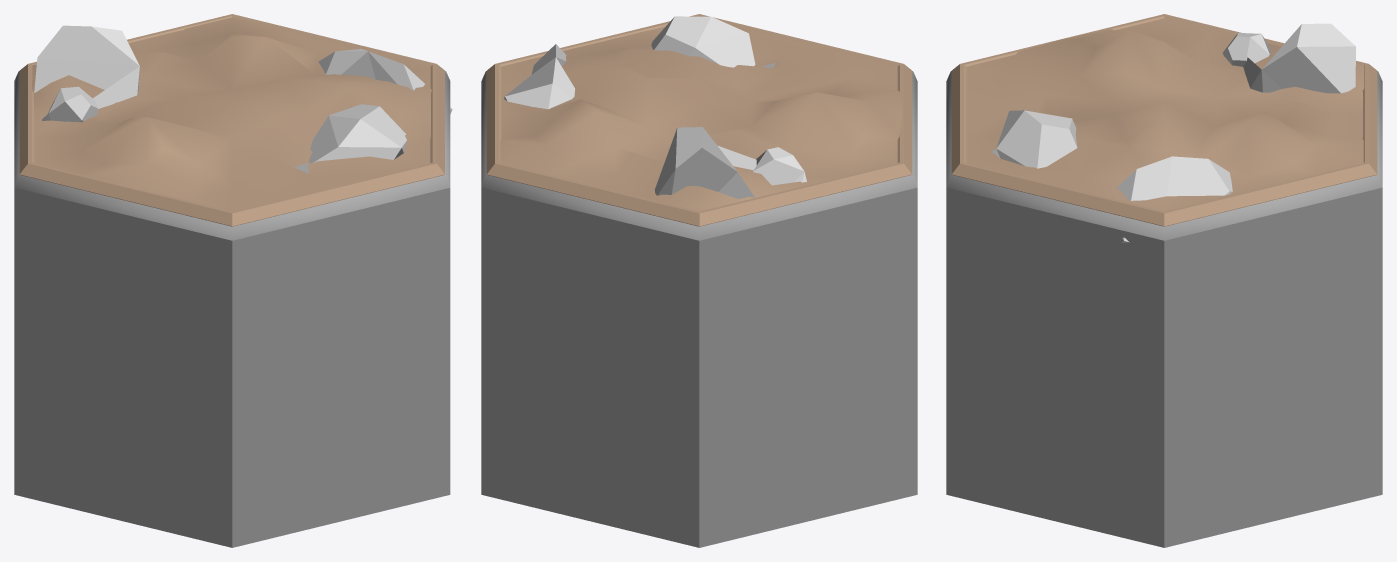
Rendered from presentation_tile4.fbx.
The picture shows the model from 3 angles, left to right: view 1: azimuth 30°, elevation 25°; view 2: azimuth 150°, elevation 25°; view 3: azimuth 270°, elevation 25°; orthographic projection.
Parts seen in each view (by area): view 1: presentation_tile4; view 2: presentation_tile4; view 3: presentation_tile4.
Boxes of the visible parts, x1,y1,x2,y2 form: presentation_tile4: (14, 14, 452, 547); presentation_tile4: (481, 14, 917, 547); presentation_tile4: (946, 14, 1382, 547).
Bounding box in the file's own units: 3.88 × 3.25 × 3.36.
